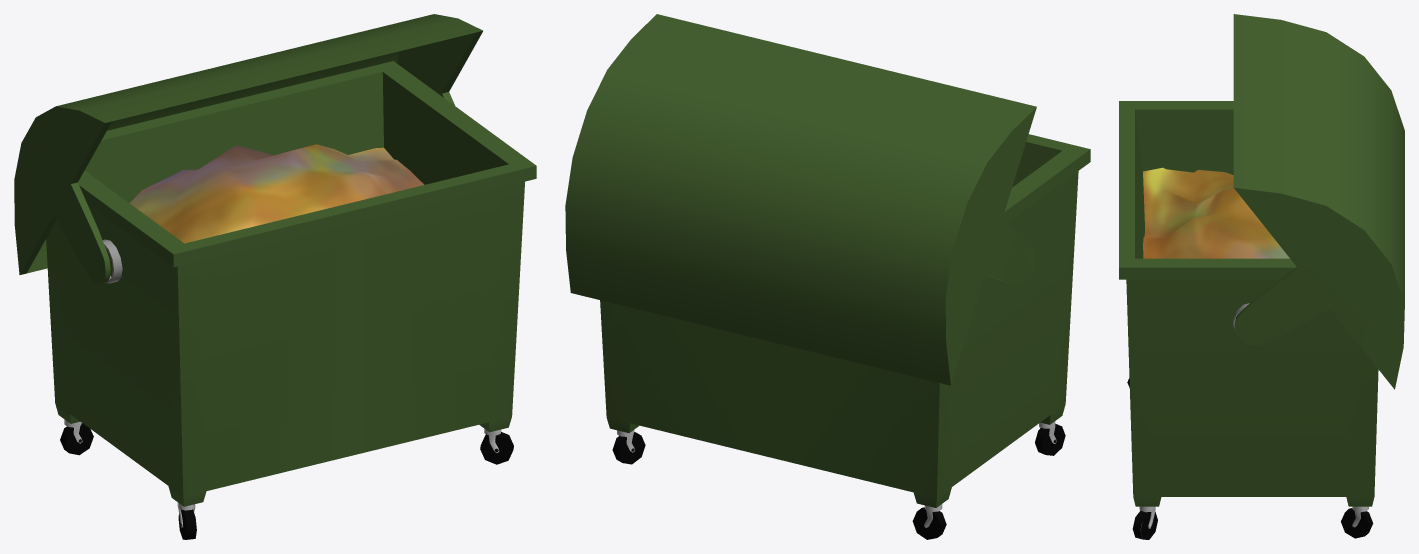
File: garbage.fbx
3 views of the same model, side by side, from view 1: azimuth 30°, elevation 25°; view 2: azimuth 150°, elevation 25°; view 3: azimuth 270°, elevation 25° (orthographic). The views are drawn at different scales.
Visible parts, largest first — view 1: Cube, Plane, Plane.002, Cylinder.001, Cylinder.007; view 2: Plane, Cube, Cylinder.007, Cylinder.003, Cylinder.005; view 3: Cube, Plane, Plane.002, Cylinder.003, Cylinder.001.
Part boxes in pixels (x1,y1,x2,y2): Cube: (46,61,536,506); Plane: (14,14,482,284); Plane.002: (129,144,424,243); Cylinder.001: (480,432,513,464); Cylinder.007: (60,423,93,455); Plane: (565,14,1036,385); Cube: (600,134,1090,507); Cylinder.007: (912,507,946,539); Cylinder.003: (612,432,645,464); Cylinder.005: (1035,423,1065,455); Cube: (1119,101,1378,506); Plane: (1233,14,1404,389); Plane.002: (1143,167,1289,258); Cylinder.003: (1341,508,1373,538); Cylinder.001: (1132,511,1157,539).
Bounding box in the file's own units: 342 × 336 × 238.
Materials: 1 (1 with a texture image).
